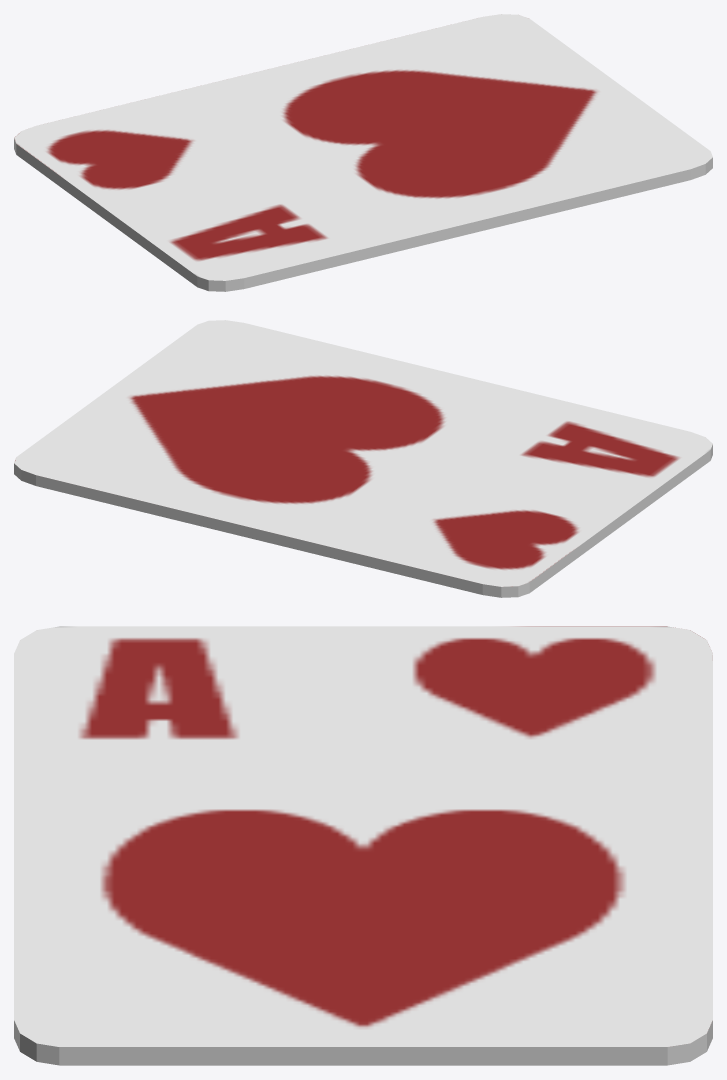
File: AceCard.fbx
3 renders of one model, top to bottom at view 1: azimuth 30°, elevation 25°; view 2: azimuth 150°, elevation 25°; view 3: azimuth 270°, elevation 25°, orthographic. The views are drawn at different scales.
Parts seen in each view (by area): view 1: CardAce; view 2: CardAce; view 3: CardAce.
Part boxes in pixels (x1,y1,x2,y2): CardAce: (14,14,712,291); CardAce: (14,320,712,597); CardAce: (14,626,712,1065).
Bounding box in the file's own units: 109 × 2.22 × 76.51.
2 materials, 1 textured.
